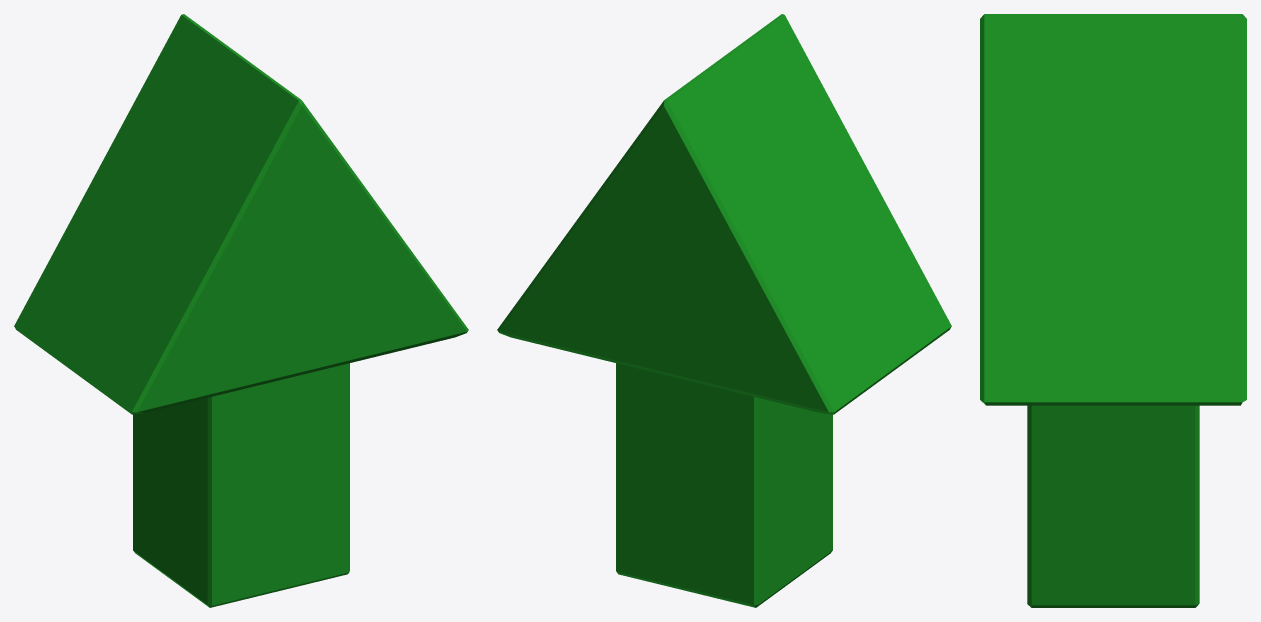
3 renders of one model, left to right at view 1: azimuth 30°, elevation 25°; view 2: azimuth 150°, elevation 25°; view 3: azimuth 270°, elevation 25°, orthographic. The views are drawn at different scales.
Parts seen in each view (by area): view 1: arrow; view 2: arrow; view 3: arrow.
Boxes of the visible parts, left/top/right/bottom form: arrow: left=14, top=14, right=468, bottom=607; arrow: left=497, top=14, right=951, bottom=607; arrow: left=980, top=14, right=1246, bottom=607.
Size of the model in its own units: 99.41 by 143 by 62.03.
